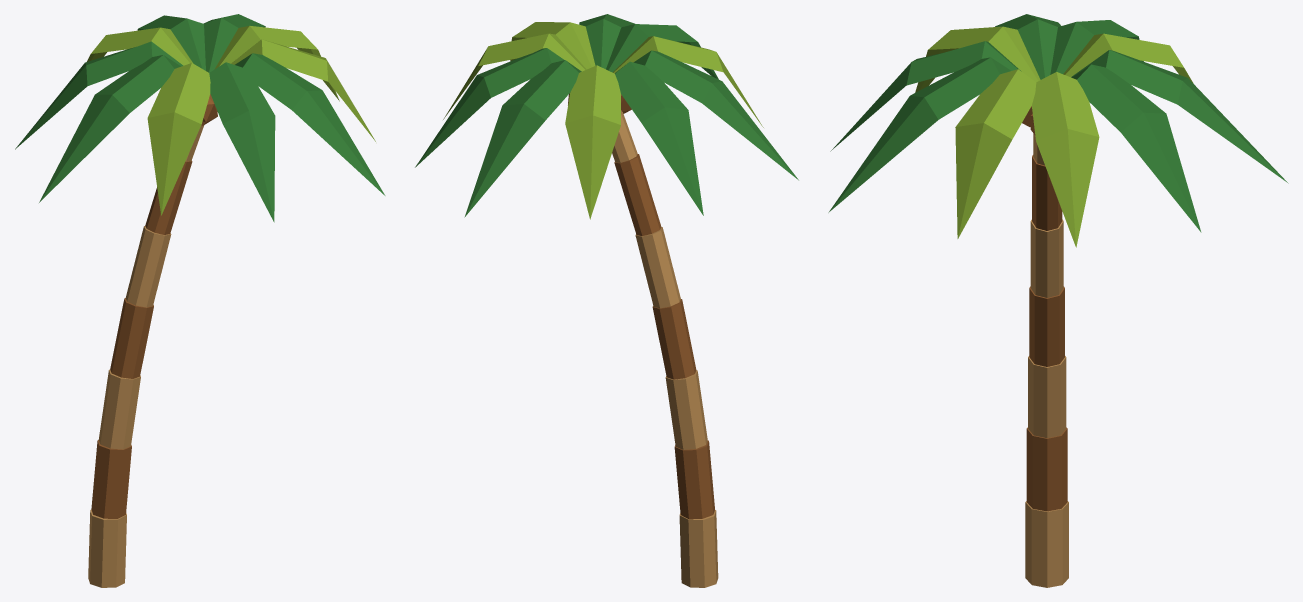
Rendered from palm_crooked.glb.
3 views of the same model, side by side, from view 1: azimuth 30°, elevation 25°; view 2: azimuth 150°, elevation 25°; view 3: azimuth 270°, elevation 25° (orthographic). The views are drawn at different scales.
Visible parts, largest first — view 1: palm_crooked_pc; view 2: palm_crooked_pc; view 3: palm_crooked_pc.
Part boxes in pixels (x1,y1,x2,y2): palm_crooked_pc: (15, 14, 385, 587); palm_crooked_pc: (415, 14, 798, 587); palm_crooked_pc: (828, 14, 1288, 587).
Bounding box in the file's own units: 3.8 × 5.68 × 4.02.
